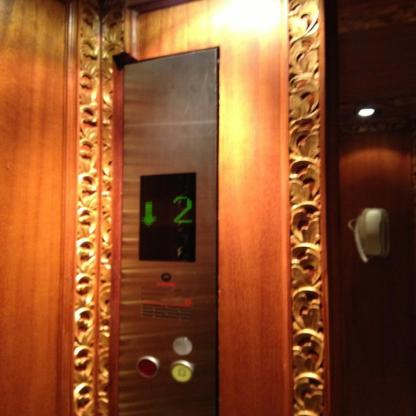alarm: (169, 359, 194, 383)
empty: (135, 356, 159, 378), (170, 335, 193, 356)
led: (137, 171, 199, 264)
